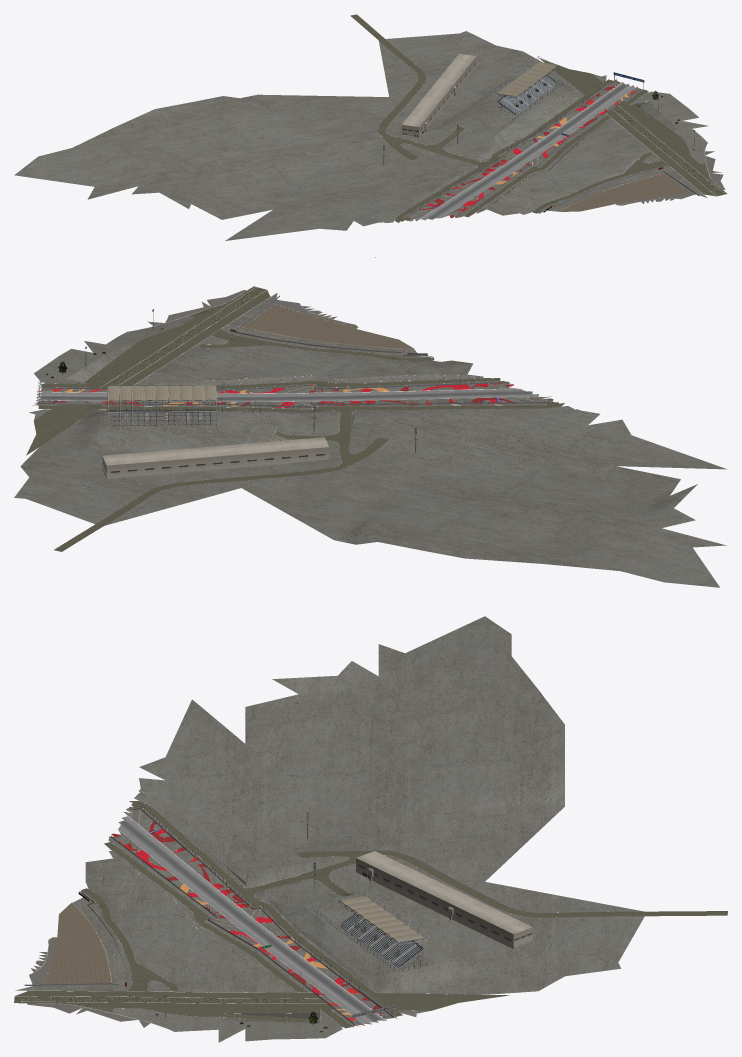
3 views of the same model, one above another, from view 1: azimuth 30°, elevation 25°; view 2: azimuth 150°, elevation 25°; view 3: azimuth 270°, elevation 25° (orthographic). The views are drawn at different scales.
Visible parts, largest first — view 1: tile_t07; view 2: tile_t07; view 3: tile_t07.
Part boxes in pixels (<box>): tile_t07: <box>14,14,726,257</box>; tile_t07: <box>14,286,726,587</box>; tile_t07: <box>14,616,727,1042</box>.
Size of the model in its own units: 560 by 62.42 by 429.
Materials: 37 (37 with a texture image).
